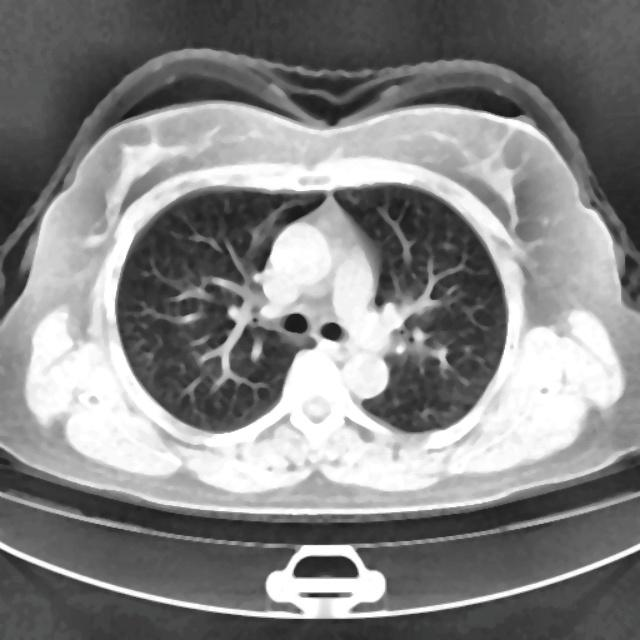covid: (1, 59, 638, 525)
